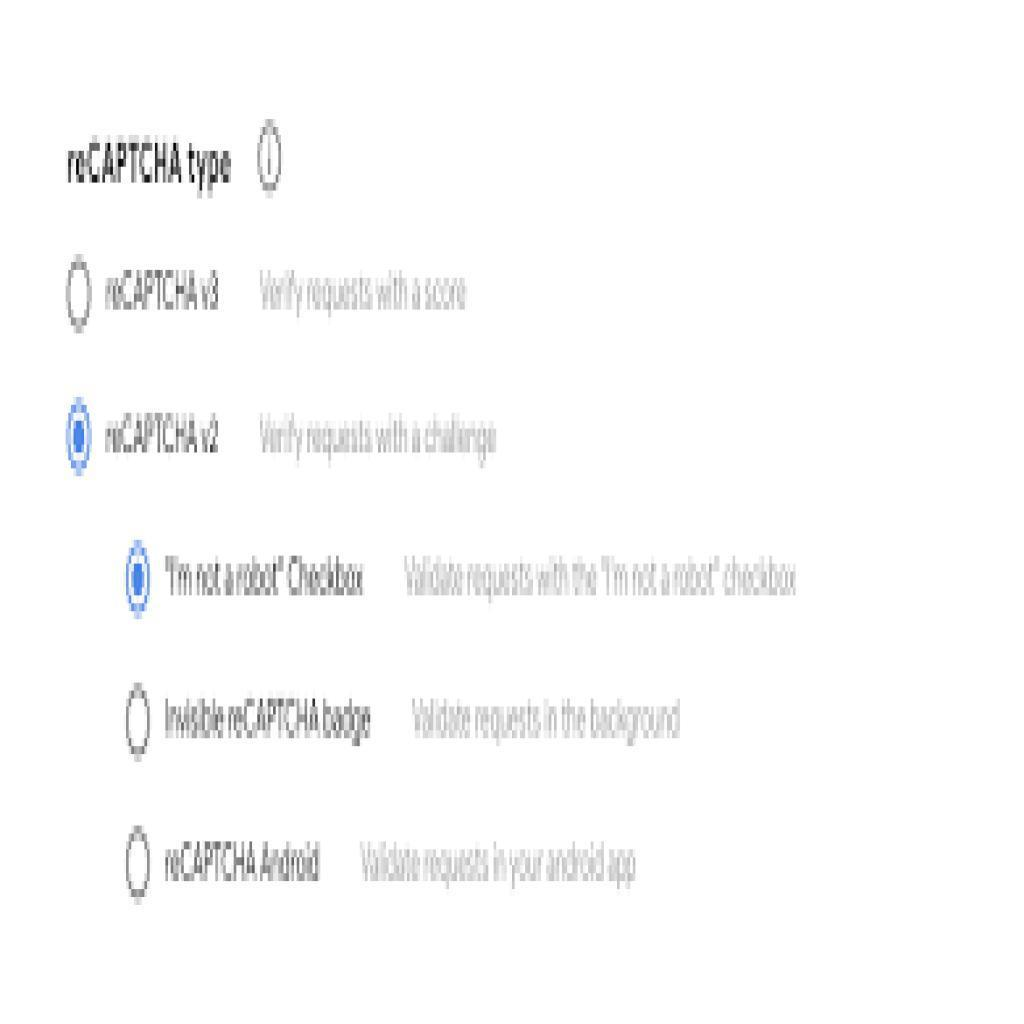radio: (123, 809, 158, 927), (122, 663, 154, 771), (122, 529, 157, 626), (65, 391, 98, 481), (64, 240, 92, 342)
